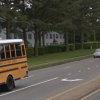Bus: (2, 33, 33, 92)
